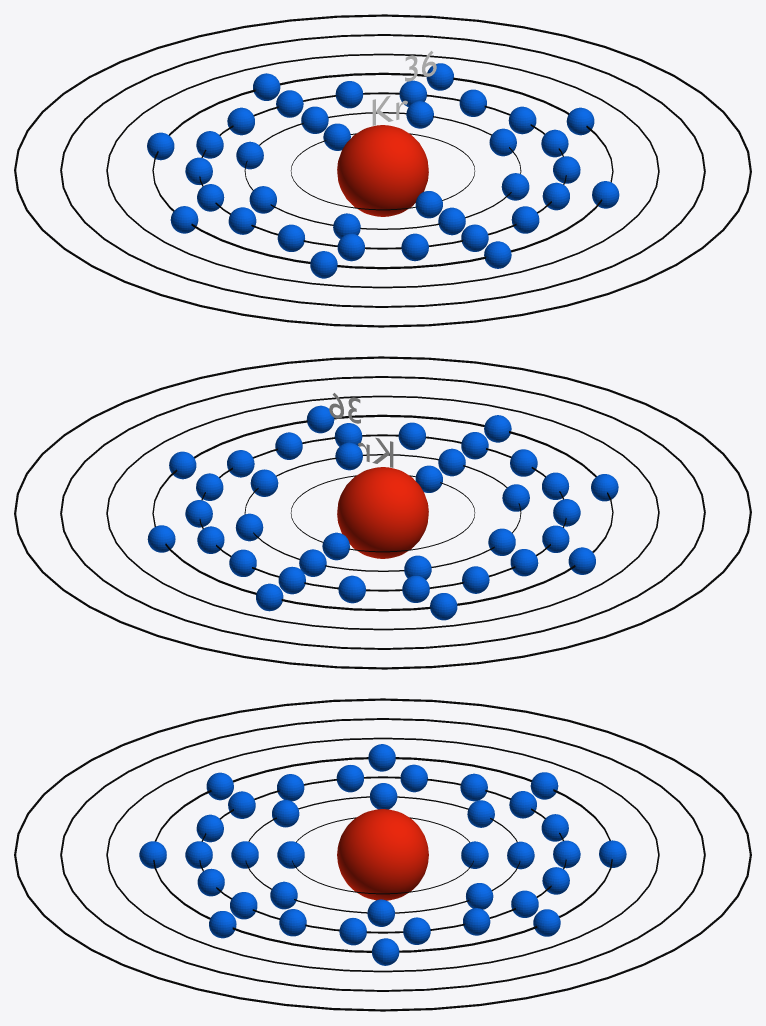
3 views of the same model, one above another, from view 1: azimuth 30°, elevation 25°; view 2: azimuth 150°, elevation 25°; view 3: azimuth 270°, elevation 25° (orthographic).
Parts seen in each view (by area): view 1: Kr3, Proton, Kr4, Kr2, n7, n6, n5, n4, Kr1, n3, n2; view 2: Kr3, Proton, Kr4, Kr2, n7, n6, n5, n4, Kr1, n3, n2; view 3: Kr3, Proton, Kr4, Kr2, n7, n6, n5, n4, Kr1, n3, n2, n1.
Boxes of the visible parts, x1,y1,x2,y2 form: Kr3: [185, 80, 580, 261]; Proton: [337, 125, 428, 216]; Kr4: [147, 63, 619, 278]; Kr2: [236, 101, 529, 238]; n7: [14, 14, 751, 327]; n6: [60, 34, 705, 307]; n5: [106, 53, 659, 288]; n4: [152, 72, 613, 269]; Kr1: [323, 123, 442, 218]; n3: [199, 92, 566, 249]; n2: [244, 112, 521, 229]; Kr3: [185, 422, 580, 603]; Proton: [337, 467, 428, 558]; Kr4: [147, 405, 618, 620]; Kr2: [235, 442, 529, 579]; n7: [14, 356, 751, 669]; n6: [60, 376, 705, 649]; n5: [106, 395, 659, 630]; n4: [152, 414, 613, 611]; Kr1: [322, 465, 442, 560]; n3: [199, 434, 566, 591]; n2: [244, 454, 521, 571]; Kr3: [185, 764, 580, 945]; Proton: [337, 809, 428, 900]; Kr4: [139, 744, 626, 965]; Kr2: [231, 783, 534, 926]; n7: [14, 698, 751, 1011]; n6: [60, 718, 705, 991]; n5: [106, 737, 659, 972]; n4: [153, 757, 612, 952]; Kr1: [277, 841, 488, 868]; n3: [199, 776, 566, 933]; n2: [245, 796, 520, 913]; n1: [292, 817, 473, 894].
Size of the model in its own units: 802 by 180 by 802.
